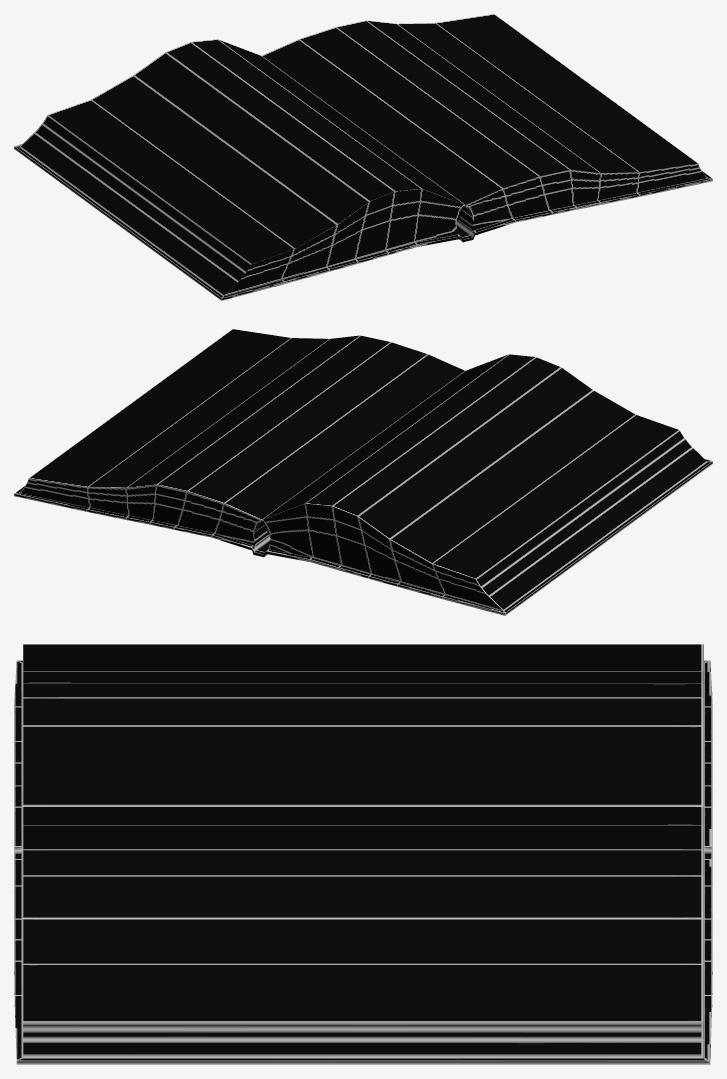
File: book.gltf
3 renders of one model, top to bottom at view 1: azimuth 30°, elevation 25°; view 2: azimuth 150°, elevation 25°; view 3: azimuth 270°, elevation 25°, orthographic. The views are drawn at different scales.
Visible parts, largest first — view 1: a_Book_002; view 2: a_Book_002; view 3: a_Book_002.
Boxes of the visible parts, x1=… form: a_Book_002: x1=14, y1=14, x2=712, y2=300; a_Book_002: x1=14, y1=329, x2=712, y2=615; a_Book_002: x1=14, y1=644, x2=712, y2=1064.
Size of the model in its own units: 41.04 by 5.24 by 30.3.
1 material, 1 textured.
